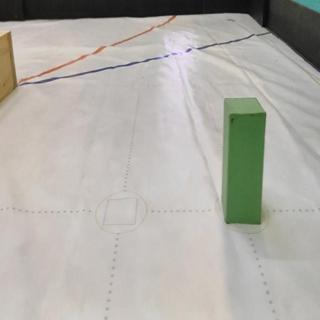greenbox: (221, 95, 268, 226)
